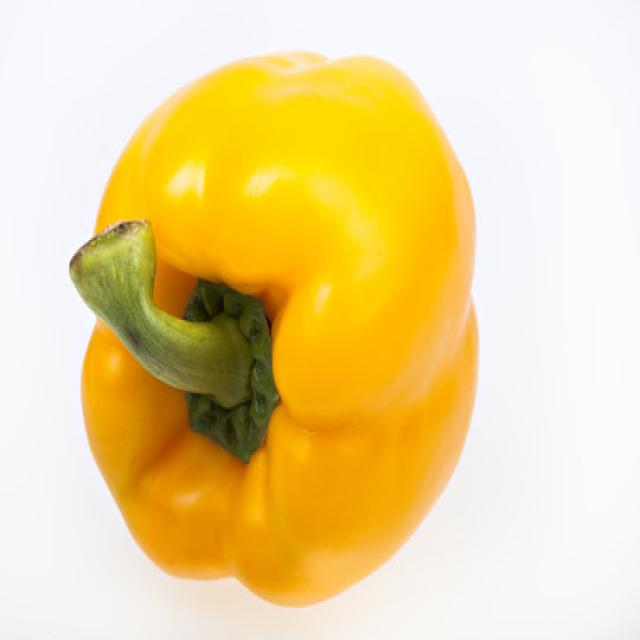Bell Pepper: (69, 46, 480, 606)
